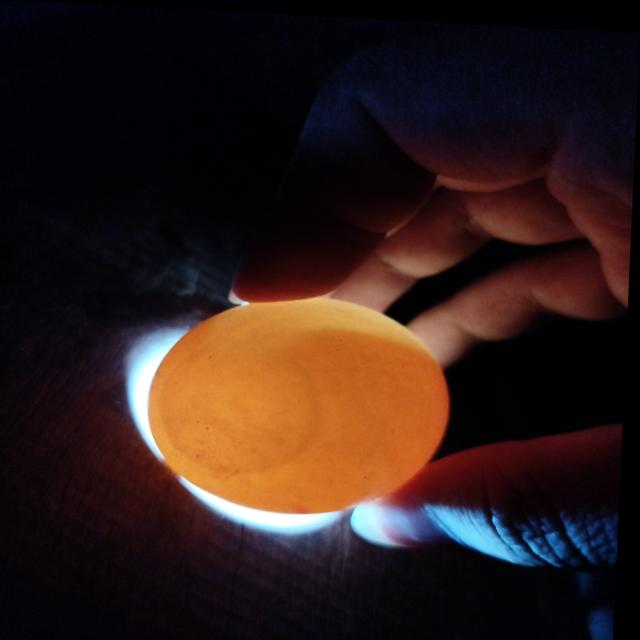Camara de Ar: (168, 341, 325, 472)
Gema Quebrada: (150, 320, 452, 511)
